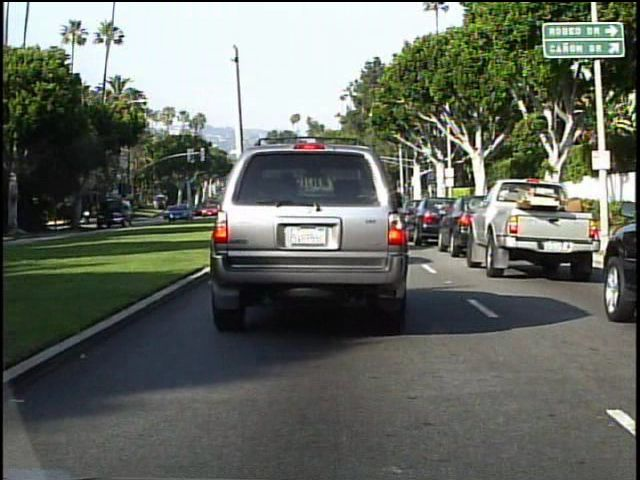person: (82, 207, 93, 226)
